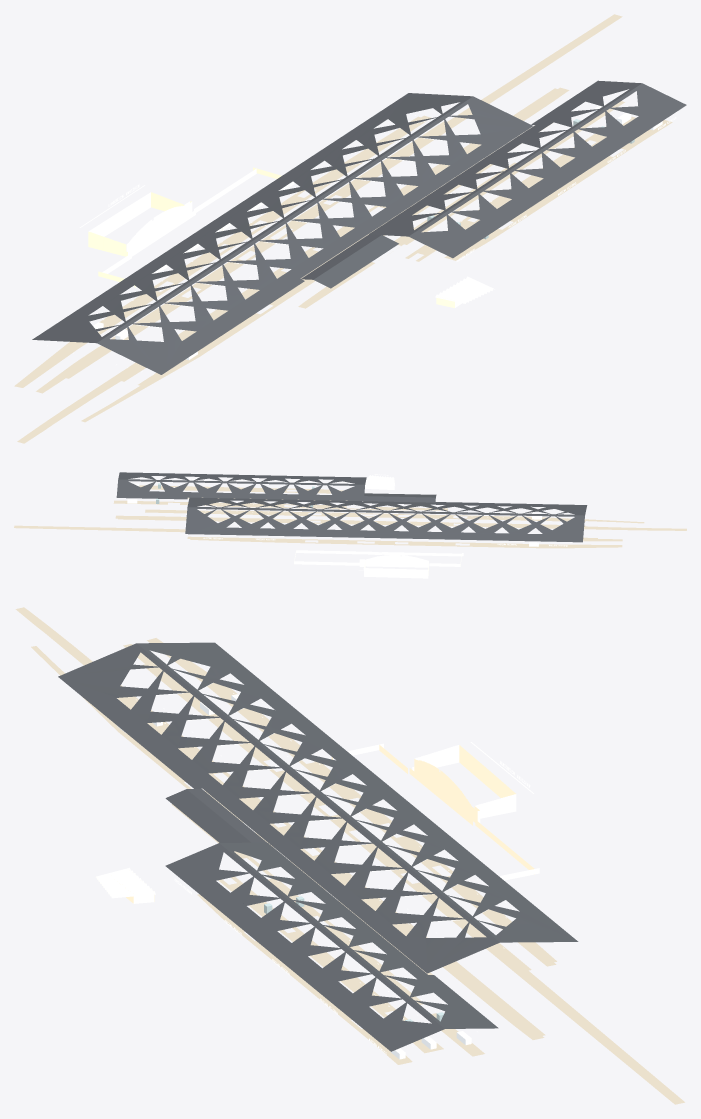
Rendered from night.glb.
3 renders of one model, top to bottom at view 1: azimuth 30°, elevation 25°; view 2: azimuth 150°, elevation 25°; view 3: azimuth 270°, elevation 25°, orthographic. The views are drawn at different scales.
Parts seen in each view (by area): view 1: Night roof, Night; view 2: Night roof, Night; view 3: Night roof, Night.
Part boxes in pixels (x1,y1,x2,y2): Night roof: (32, 80, 686, 375); Night: (14, 14, 672, 443); Night roof: (116, 472, 587, 546); Night: (14, 474, 686, 578); Night roof: (58, 642, 578, 1054); Night: (15, 607, 684, 1104).
Size of the model in its own units: 563 by 24.37 by 320.
